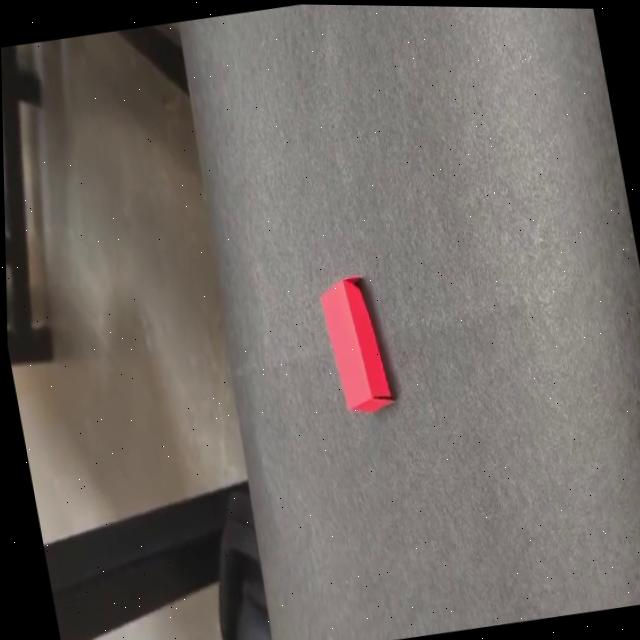red block: (314, 272, 397, 420)
